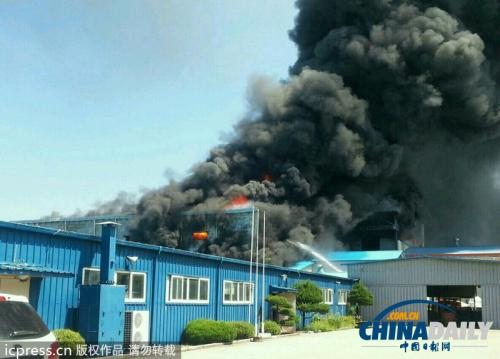smoke: (236, 4, 500, 208)
